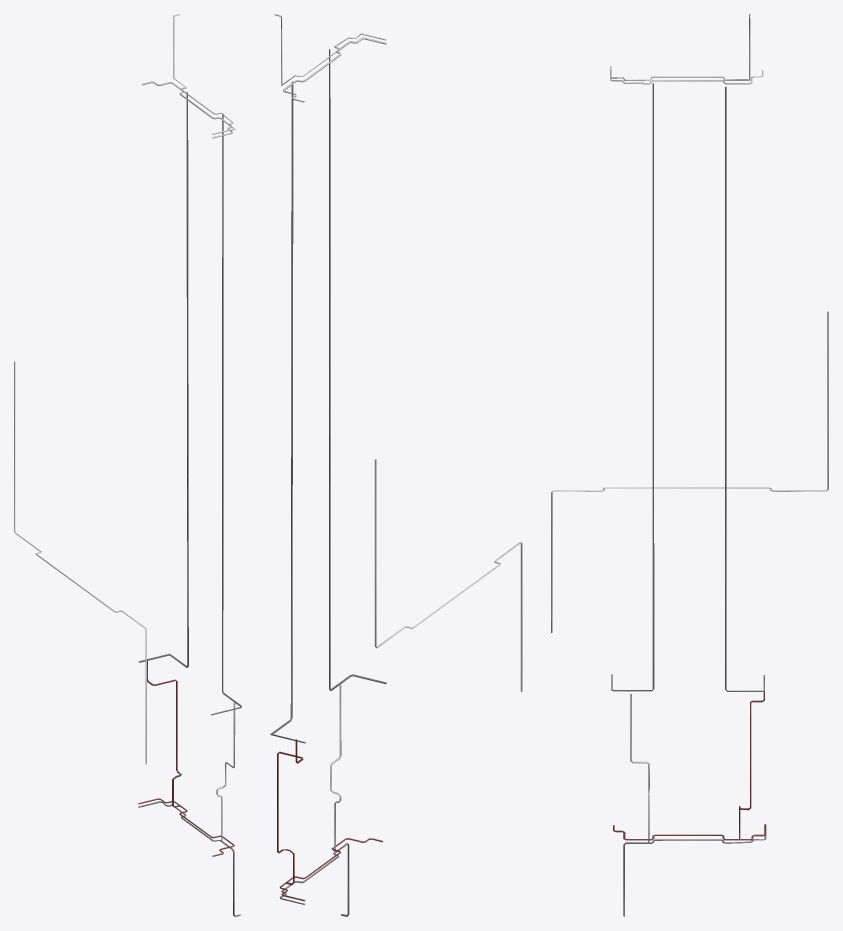
File: SM_H_Building_Tide_DeepJail_11f_ATLAS.fbx
3 renders of one model, left to right at view 1: azimuth 30°, elevation 25°; view 2: azimuth 150°, elevation 25°; view 3: azimuth 270°, elevation 25°, orthographic. The views are drawn at different scales.
Visible parts, largest first — view 1: SM_H_Building_Tide_DeepJail_11f_ATLAS; view 2: SM_H_Building_Tide_DeepJail_11f_ATLAS; view 3: SM_H_Building_Tide_DeepJail_11f_ATLAS.
Part boxes in pixels (x1,y1,x2,y2): SM_H_Building_Tide_DeepJail_11f_ATLAS: (14, 14, 241, 916); SM_H_Building_Tide_DeepJail_11f_ATLAS: (270, 14, 522, 916); SM_H_Building_Tide_DeepJail_11f_ATLAS: (551, 14, 828, 916).
Bounding box in the file's own units: 477 × 809 × 2889.
